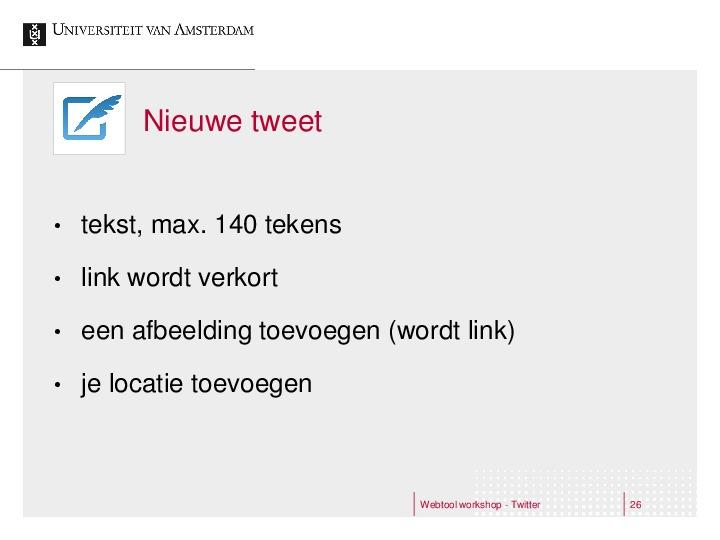paragraph: (43, 174, 571, 436)
title: (139, 90, 339, 152)
